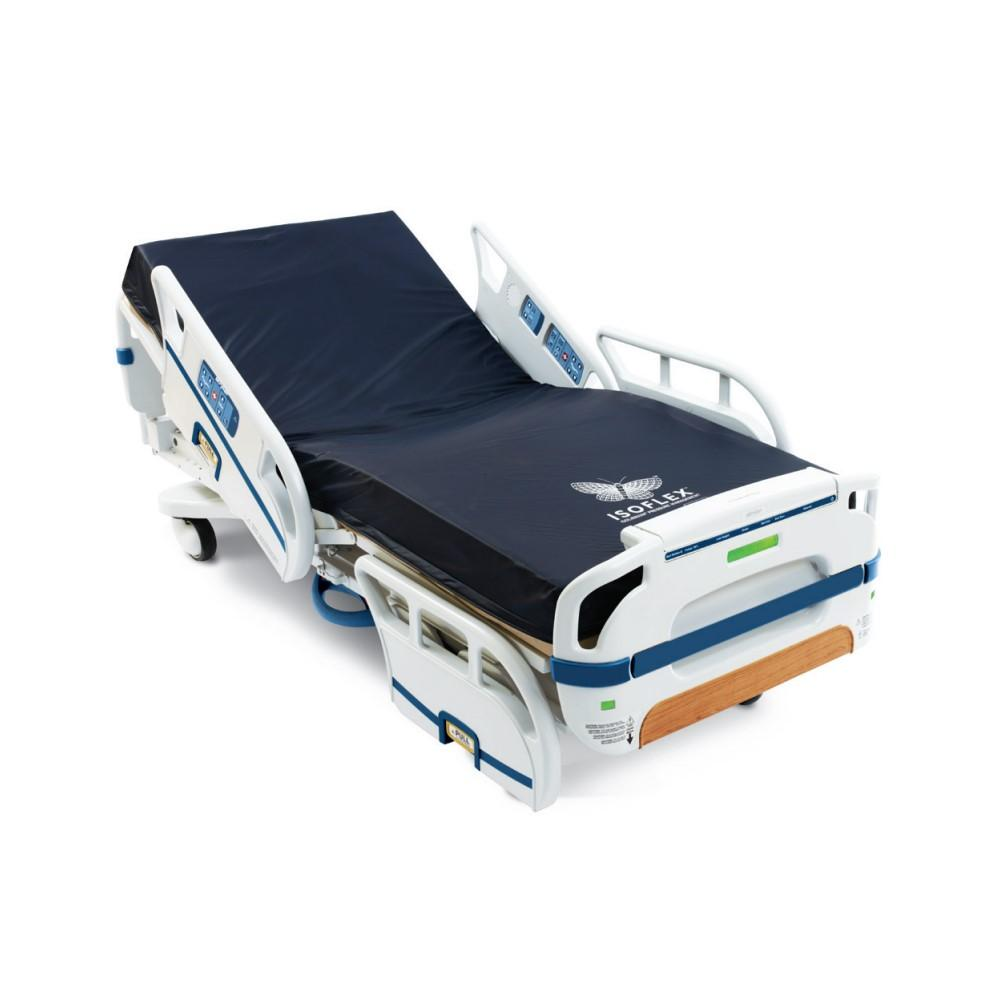trolley_bed: (107, 206, 883, 818)
